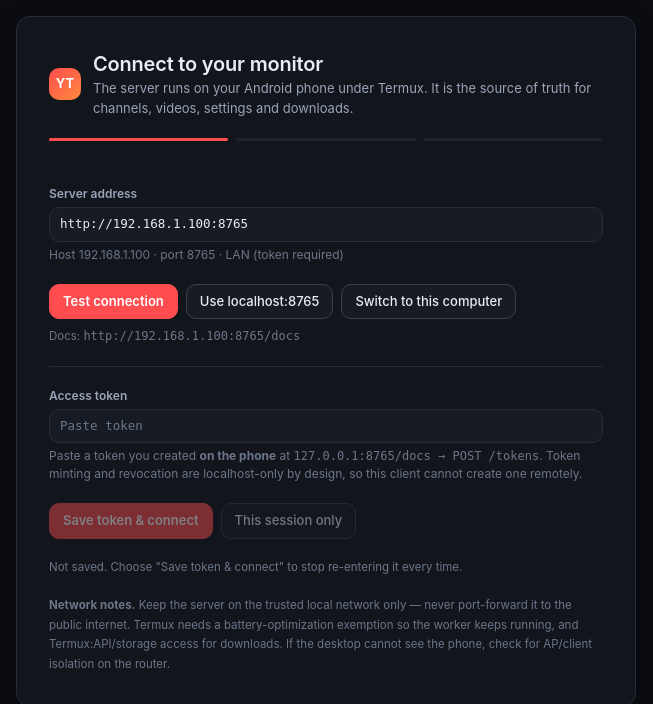
Test case: connection screen (vertical slice: pairing) › probes /health and reports reachability
Click the button "Test connection": (113, 302) [49,284,178,319]
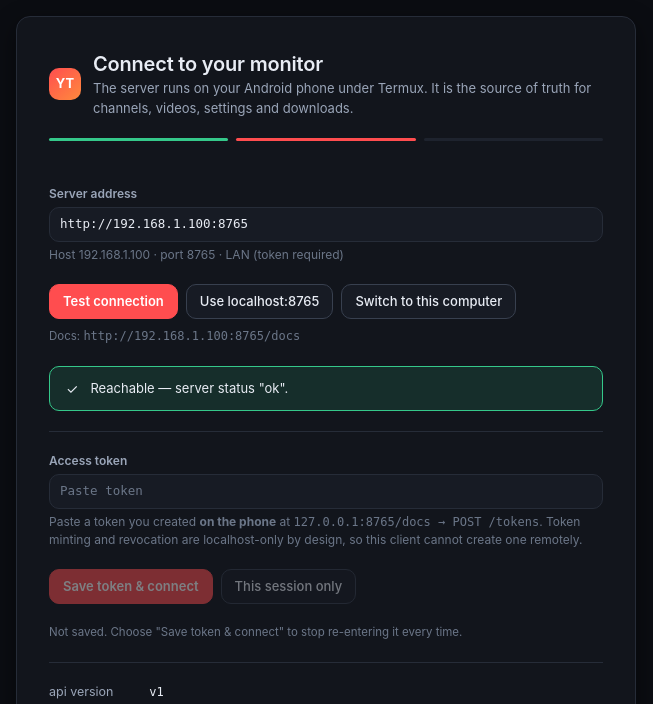
Check: the text "Reachable — server status \"ok\"." is shown, box [90,380,288,396]
